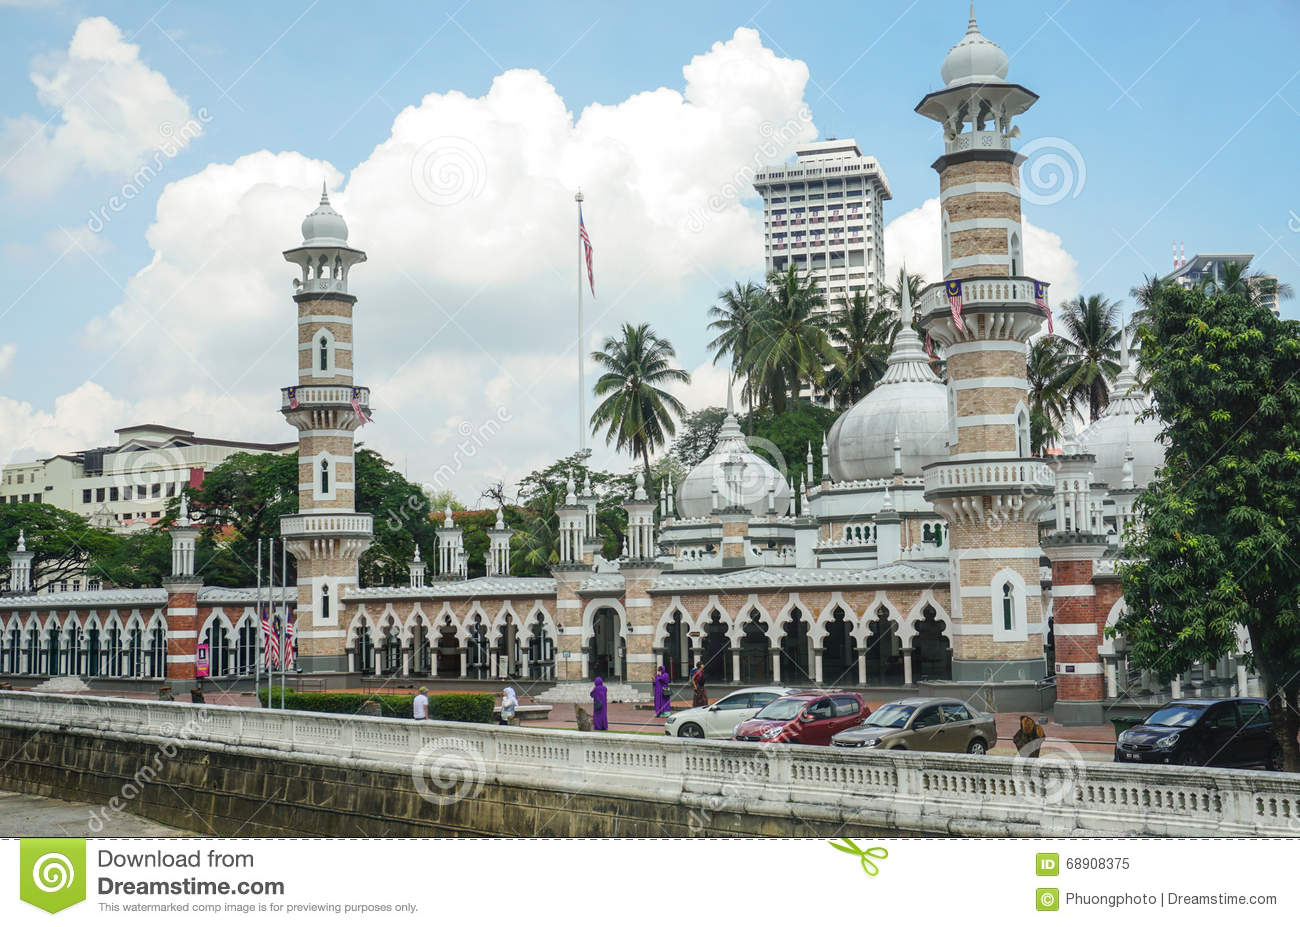Mosque: (289, 20, 1095, 682)
